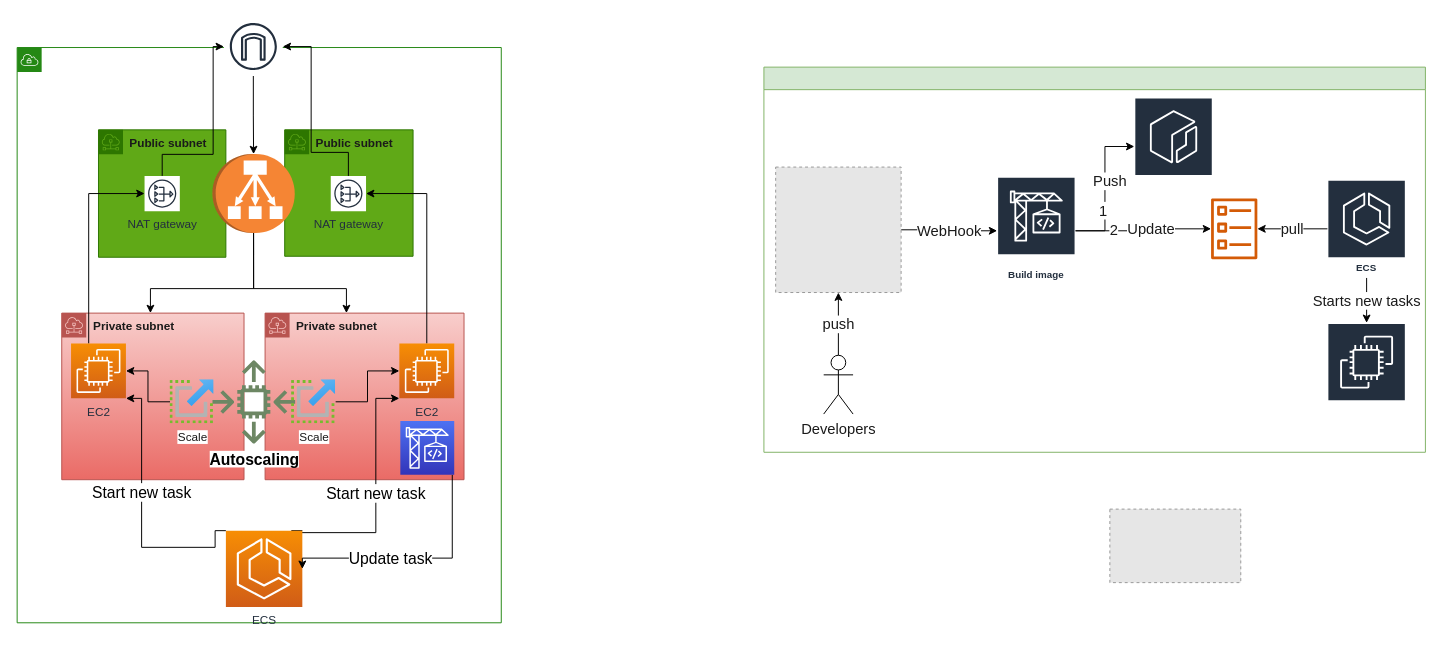
This 1443x645 diagram has some shape labels left out. Grey dashed boxes stand in for pictures. The box of each missing label's shape, as (x1, y1, x2, y2) in pixels:
Amazon EC2: (1326, 322, 1406, 421)
Amazon ECR: (1133, 97, 1213, 196)
CI/CD: (763, 66, 1425, 452)
Internet gateway: (223, 16, 283, 76)
Task: (1210, 198, 1257, 259)
VPC - eu-central-1: (16, 47, 501, 623)
